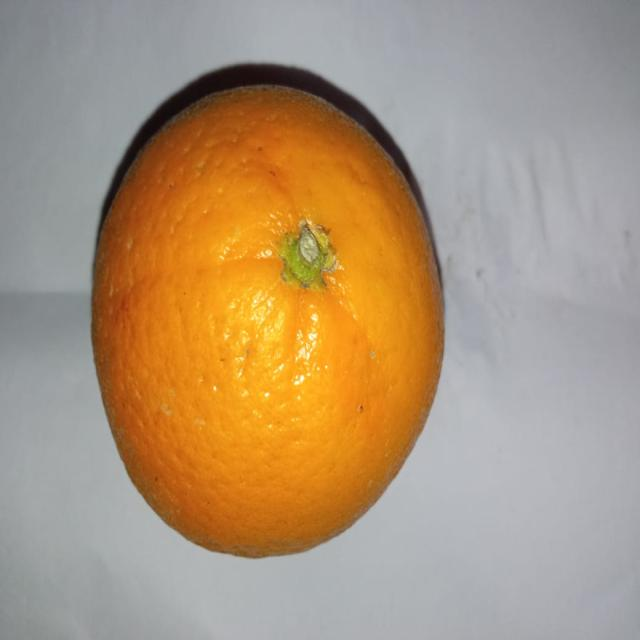fresh_orange: (90, 81, 442, 560)
